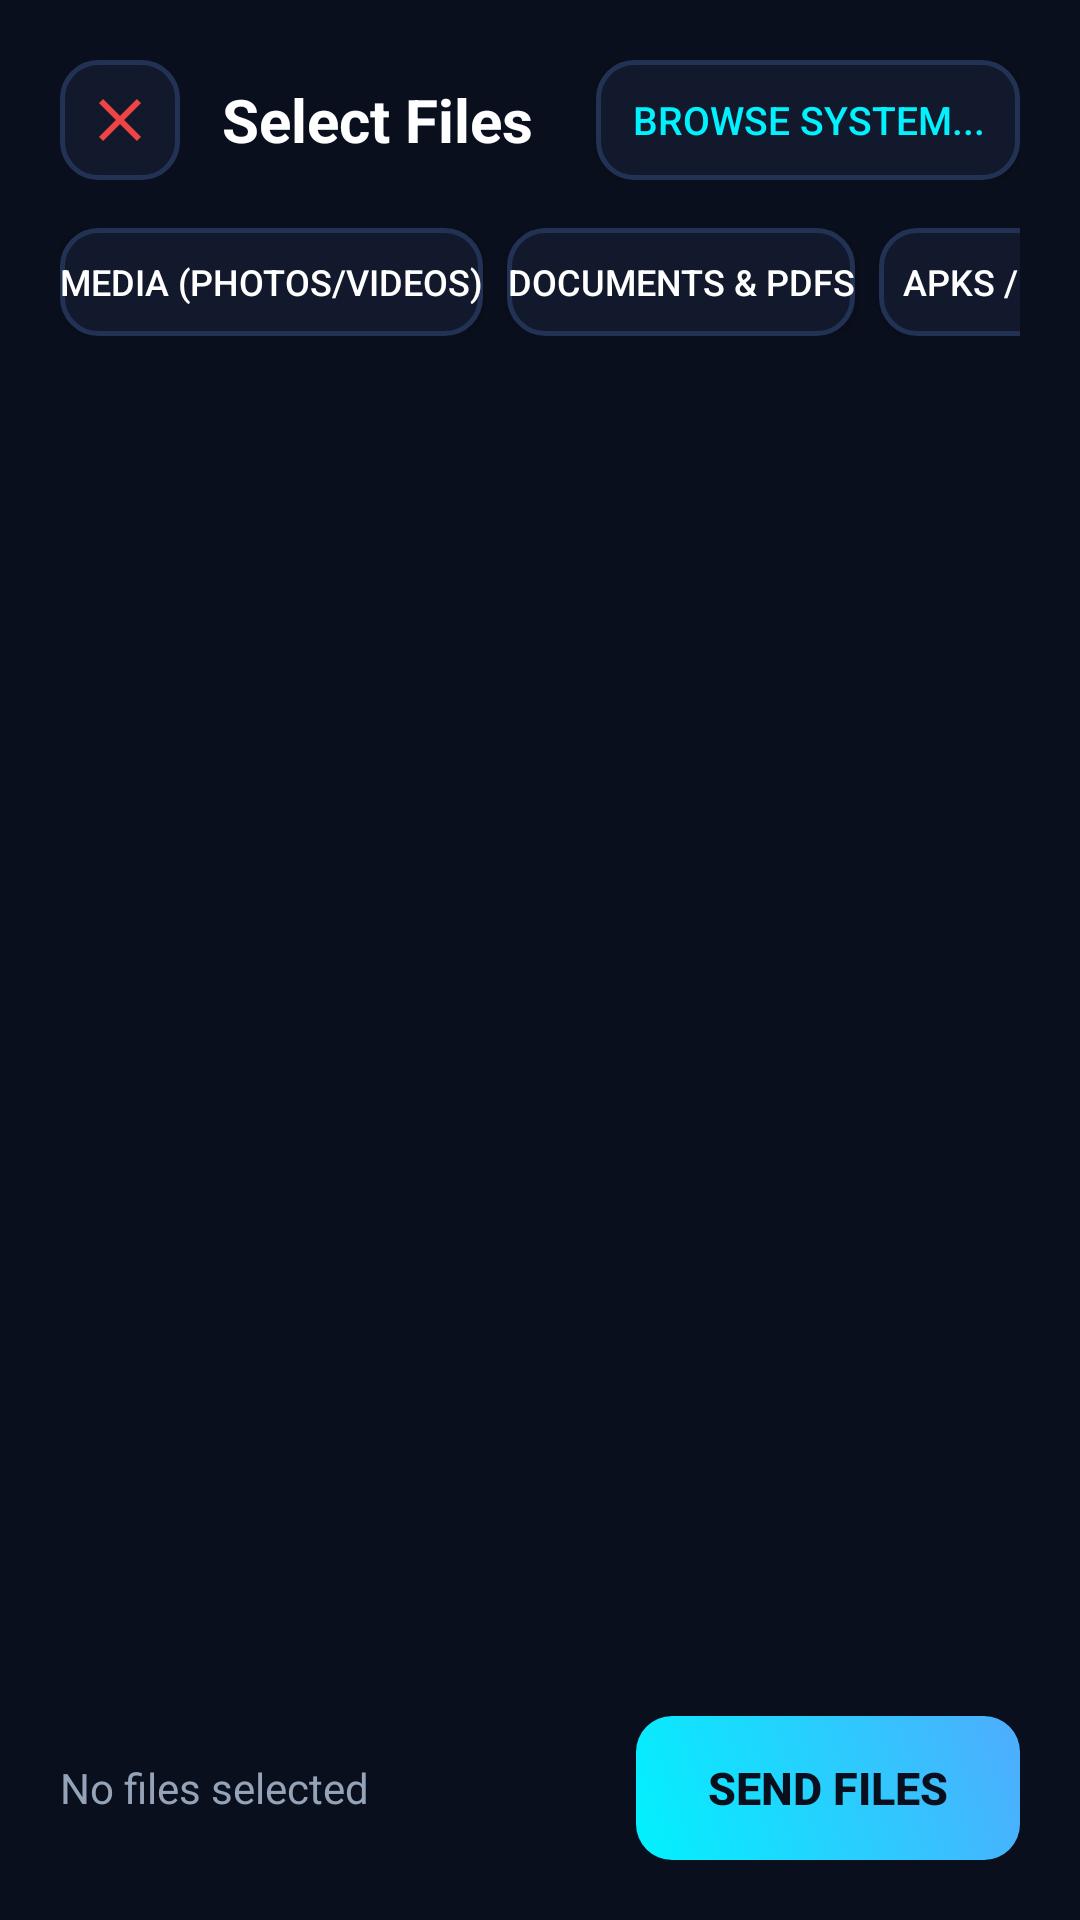

Named icons in this screenshot (1080x1920) and their bounding boxes, [x1, y1, x2, y2]:
close: [60, 60, 180, 180]
